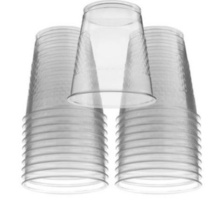glass: (16, 18, 127, 198), (112, 22, 201, 200), (63, 0, 158, 116)
